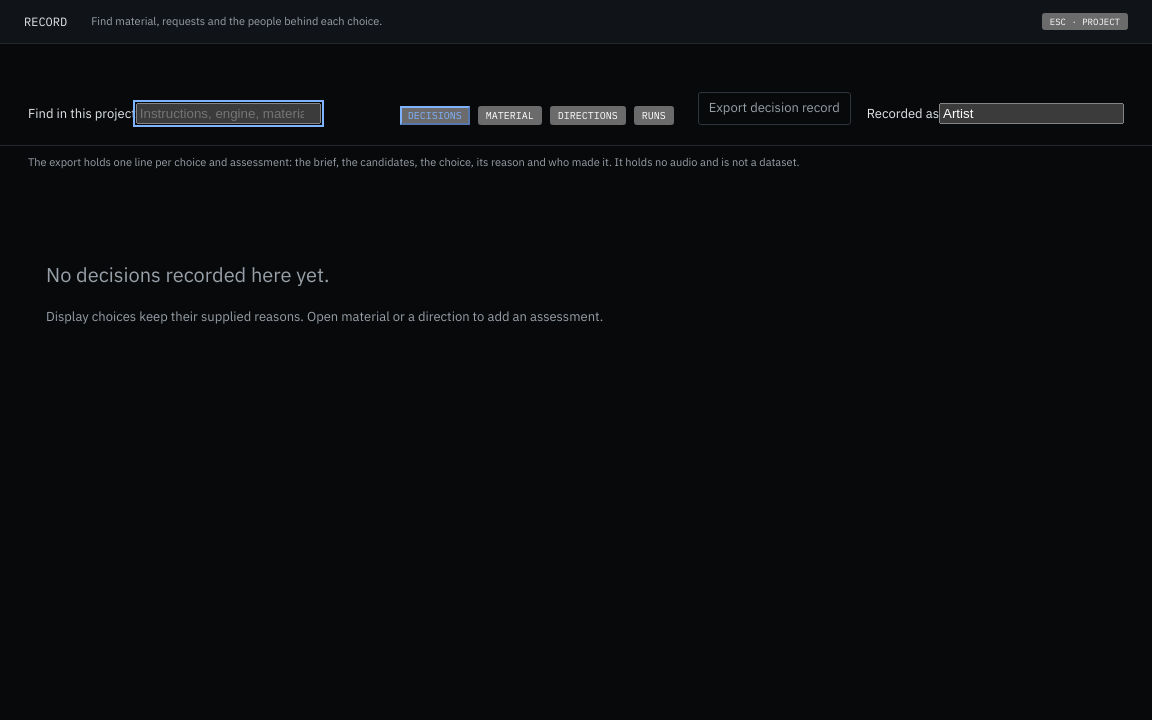
Test: the record room › says which runs were blind and who revealed them
The image size is (1152, 720).
What coordinates should you click on to do the following:
click the button "Runs"
I would click on:
 (654, 115)
Its box is [634,106,674,125].
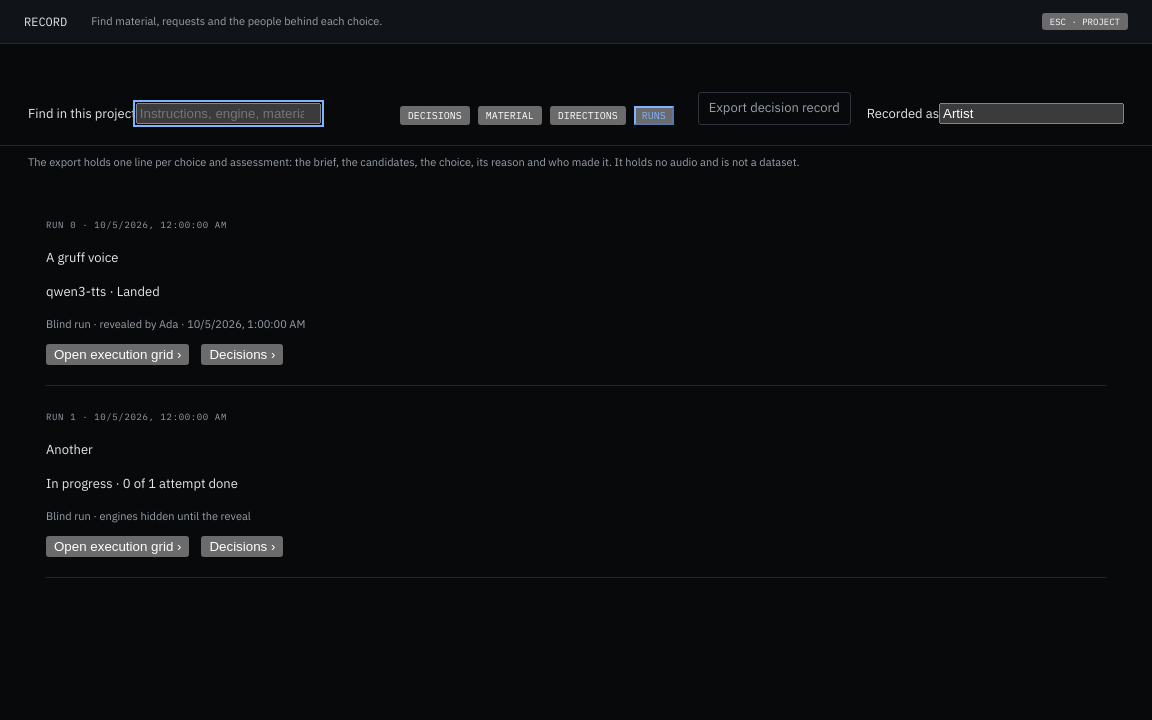
Expected: the text "Blind run · revealed by Ada · 10/5/2026, 1:00:00 AM" is shown, [46,317,305,331]
Expected: the text "Blind run · engines hidden until the reveal" is shown, [46,509,251,523]
Expected: the text "In progress · 0 of 1 attempt done" is shown, [46,475,238,492]
